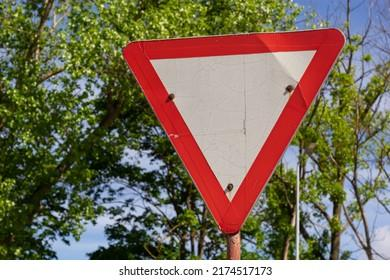Give Way: (125, 27, 337, 222)
